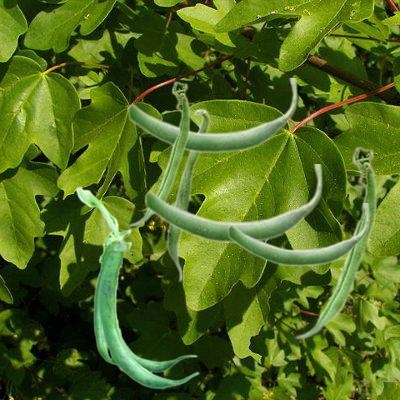french_bean: (75, 186, 198, 388), (294, 145, 376, 339), (144, 164, 322, 243), (127, 78, 297, 153), (227, 203, 369, 266), (128, 80, 189, 226), (166, 108, 209, 282)
